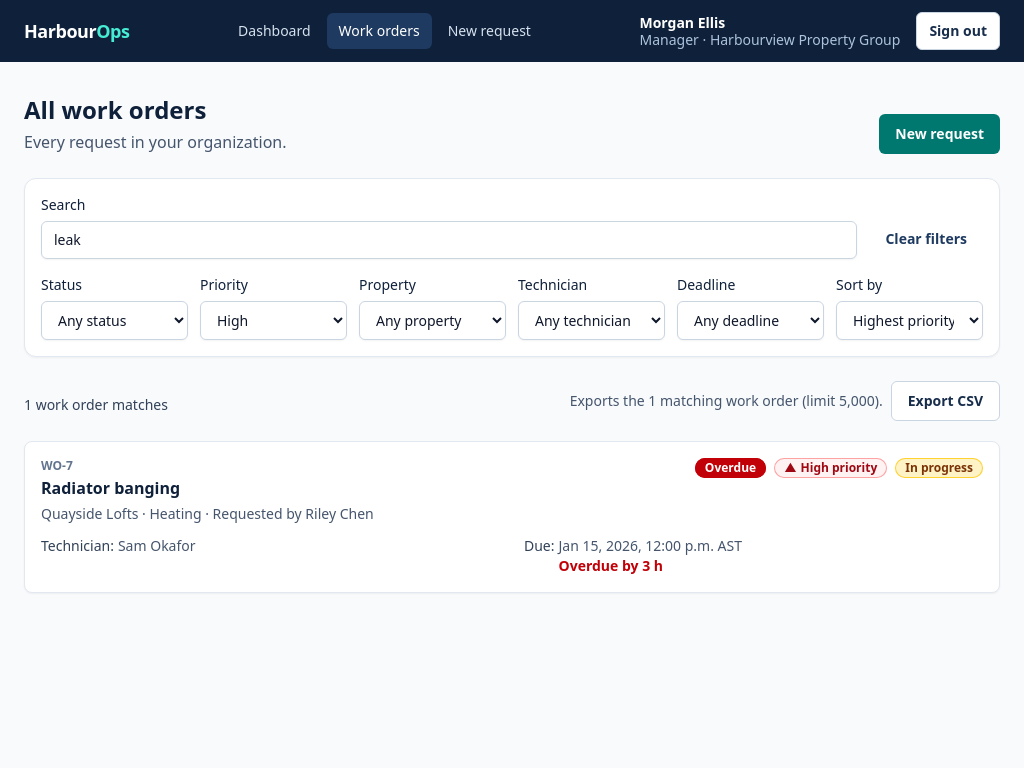
Test: WorkOrderListPage › clears search and filters but keeps the sort, then moves focus to the search box
Click the button "Clear filters".
click(926, 239)  # box [870,219,983,259]
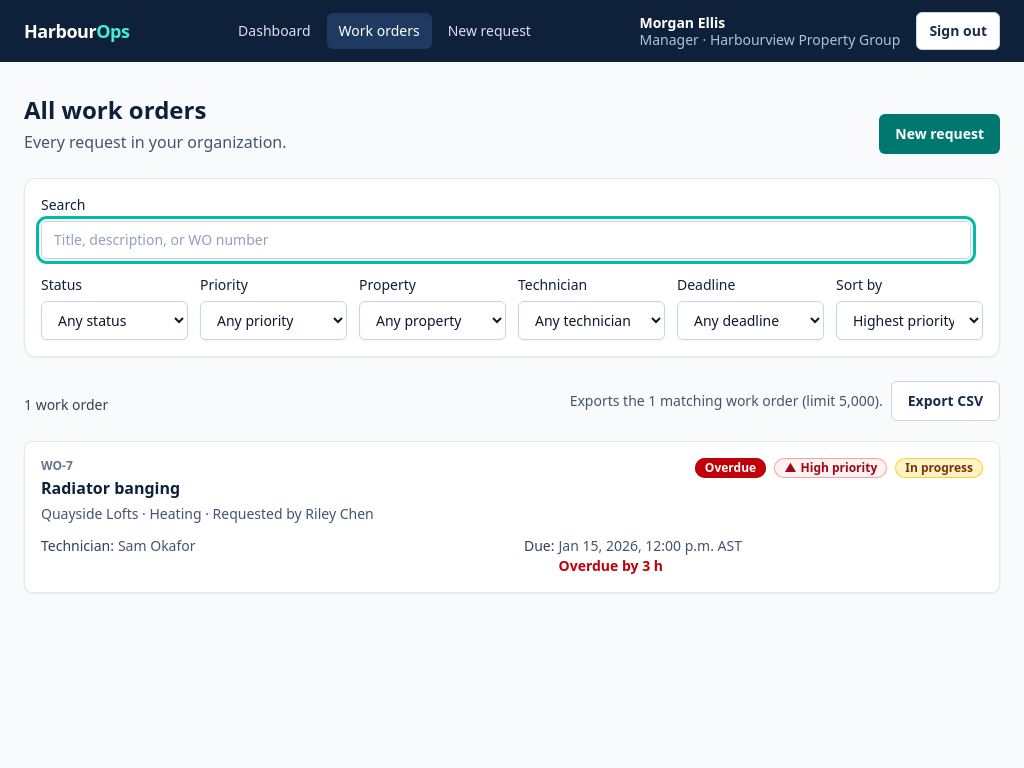
Check: the search field labelled "Search" is empty, box [41,221,971,259]
